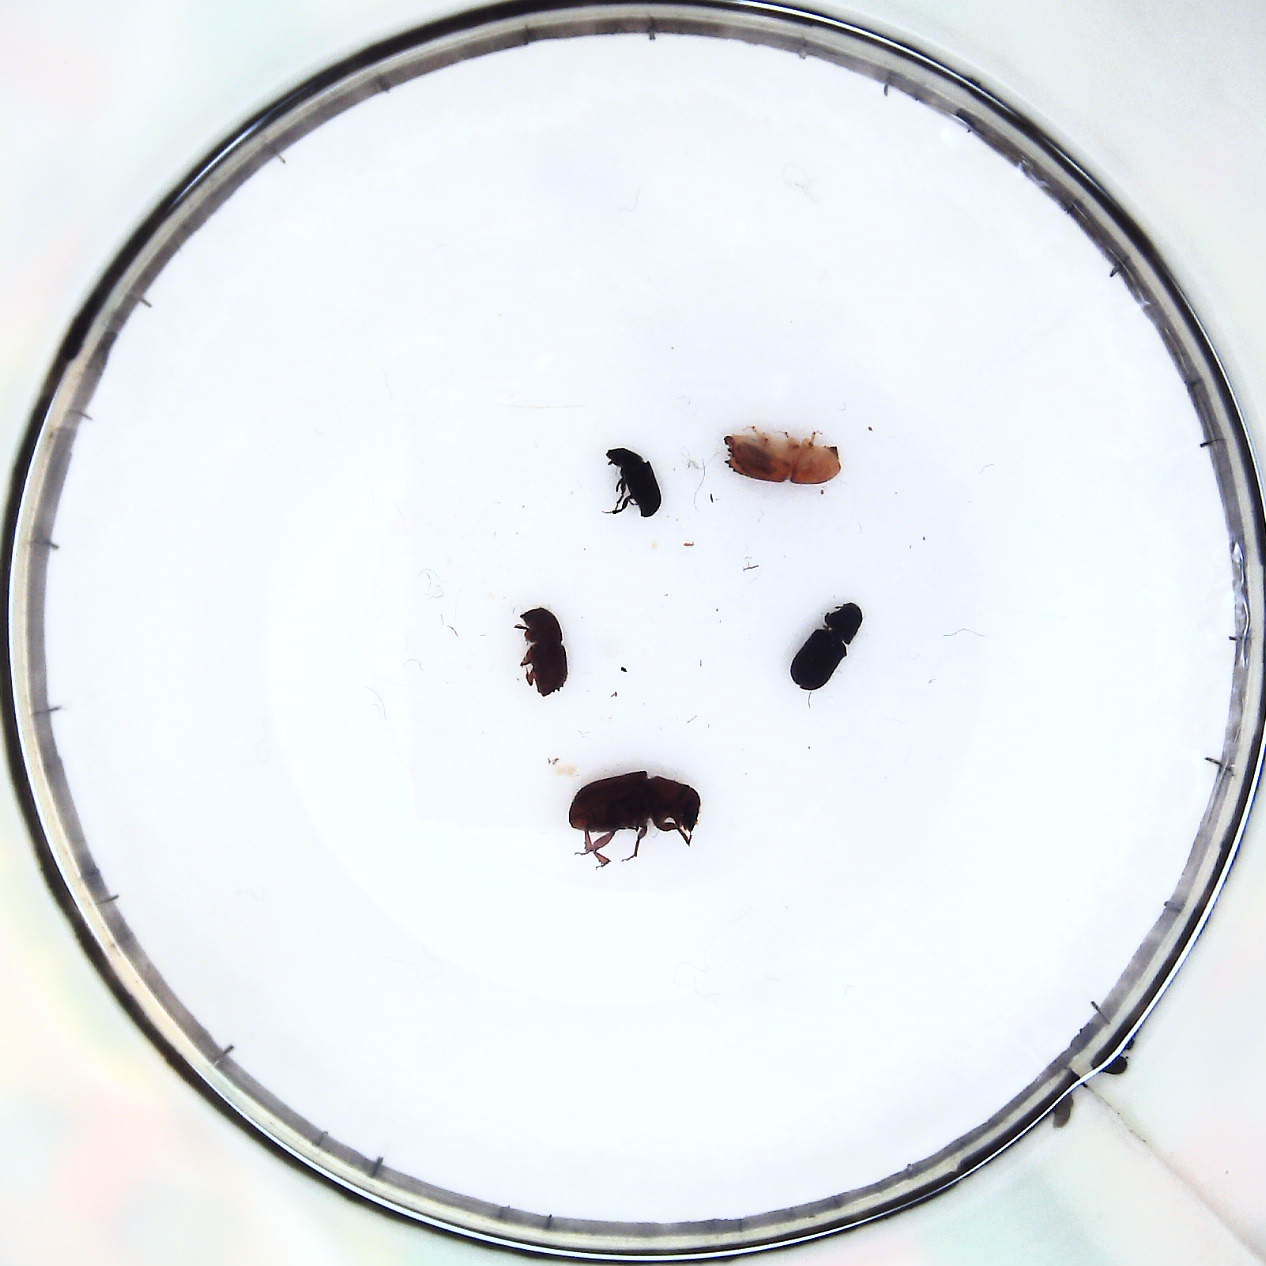Boerner: (722, 422, 842, 492)
Leconte: (569, 770, 706, 863)
Linnaeus: (516, 605, 569, 699)
armandi: (788, 596, 866, 687)
coleoptera: (598, 448, 661, 521)
